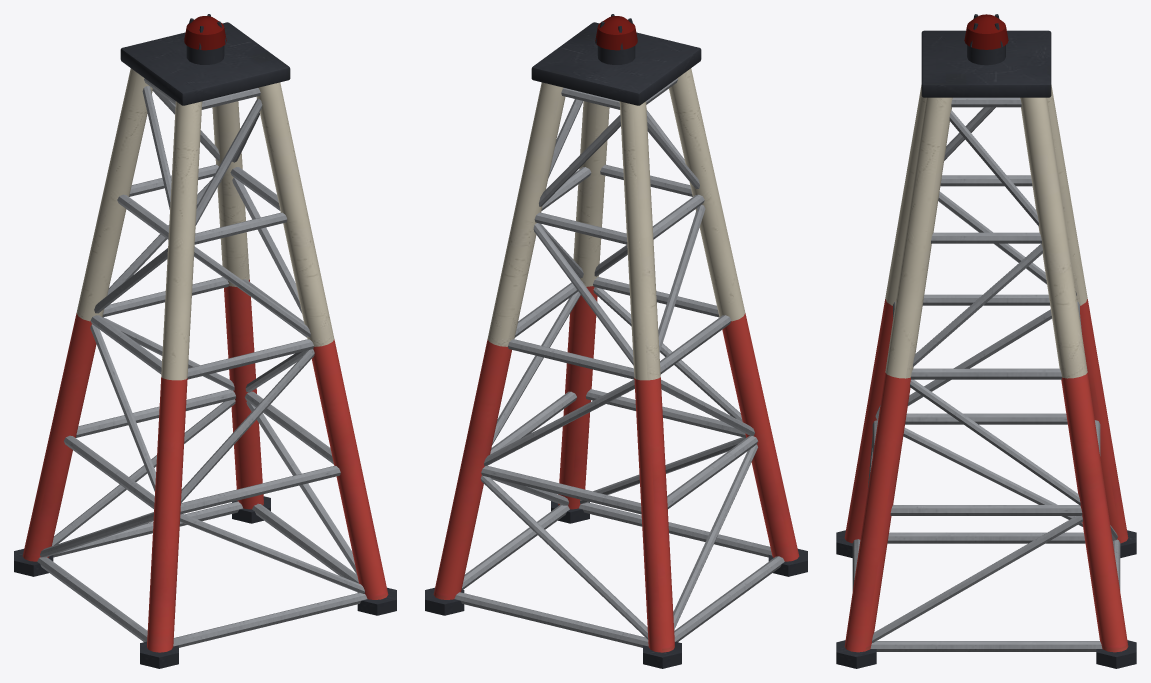
The model's file is tower_pole_top.glb.
3 renders of one model, left to right at view 1: azimuth 30°, elevation 25°; view 2: azimuth 150°, elevation 25°; view 3: azimuth 270°, elevation 25°, orthographic. The views are drawn at different scales.
Visible parts, largest first — view 1: Body.008; view 2: Body.008; view 3: Body.008.
Boxes of the visible parts, bbox=[...] form: Body.008: bbox=[14, 14, 396, 668]; Body.008: bbox=[425, 14, 807, 668]; Body.008: bbox=[836, 14, 1136, 668].
Bounding box in the file's own units: 0.472 × 1 × 0.4624.
Materials: 5 (4 with a texture image).
